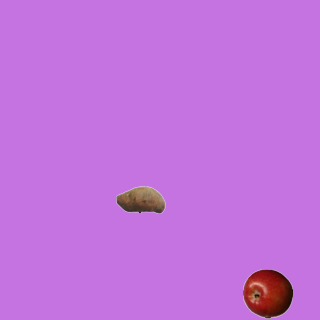Apple Braeburn: (242, 268, 292, 318)
Potato Sweet: (115, 174, 165, 224)
